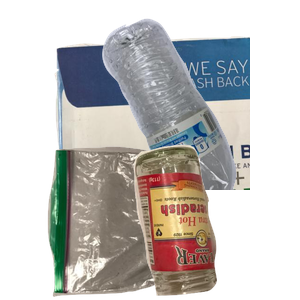glass: (131, 142, 300, 300)
paper: (52, 34, 292, 214)
plastic: (100, 16, 300, 196)
trash: (45, 144, 235, 300)
